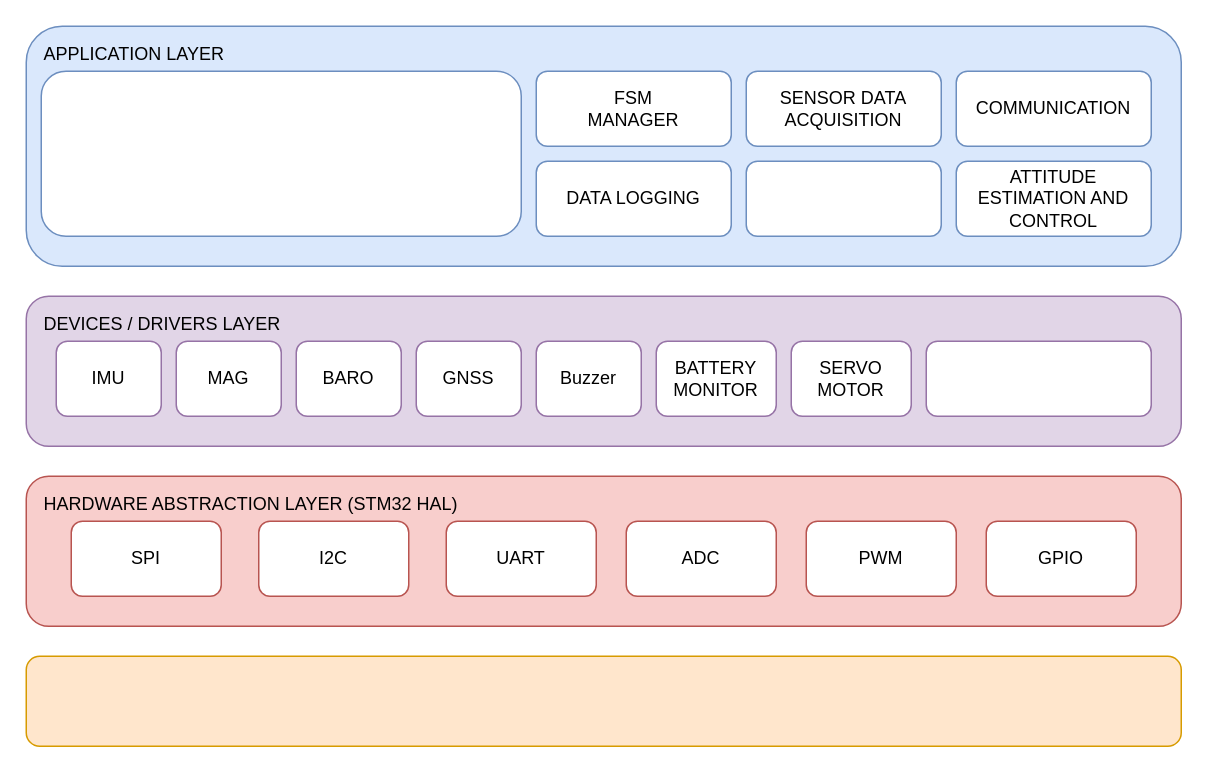
This 1208x773 diagram has some shape labels left out. Here are the shapes that lost their labels. From the top down, the centre of each, then its label:
At (x=280, y=153): "CANSAT".
At (x=843, y=198): "DCS II ESTIMATION AND CONTROL".
At (x=1038, y=378): "REACTION WHEEL SYSTEM".
At (x=603, y=700): "HARDWARE STM32F405x".
